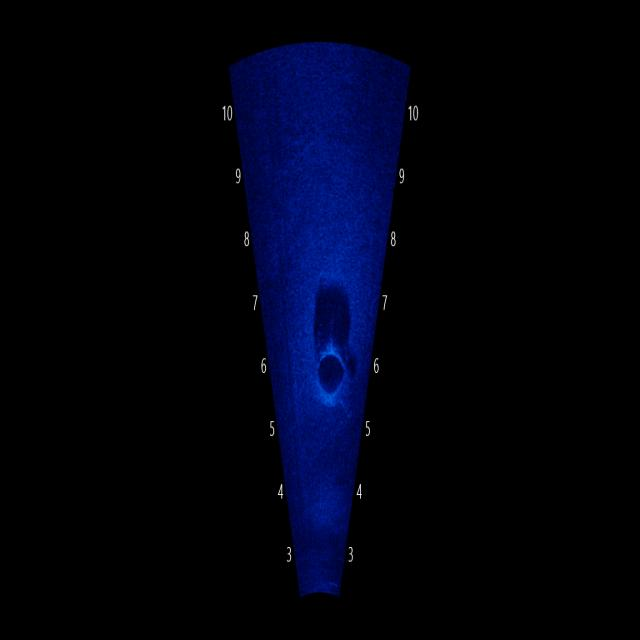circle: (308, 333, 355, 415)
